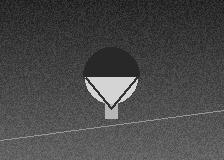helmet: (83, 47, 139, 108)
